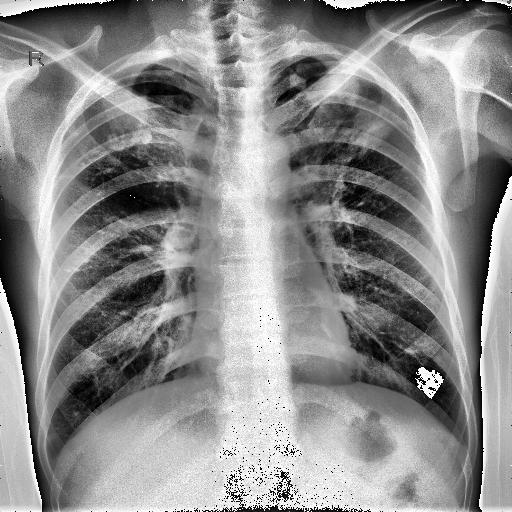13- Pulmonary fibrosis: (54, 88, 184, 186), (94, 71, 195, 182), (281, 61, 396, 156), (300, 75, 396, 160), (103, 104, 172, 180)
7- Lung Opacity: (336, 104, 388, 158)
8- Nodule-Mass: (132, 128, 154, 144), (63, 266, 79, 274), (74, 411, 78, 415), (55, 426, 59, 430)
